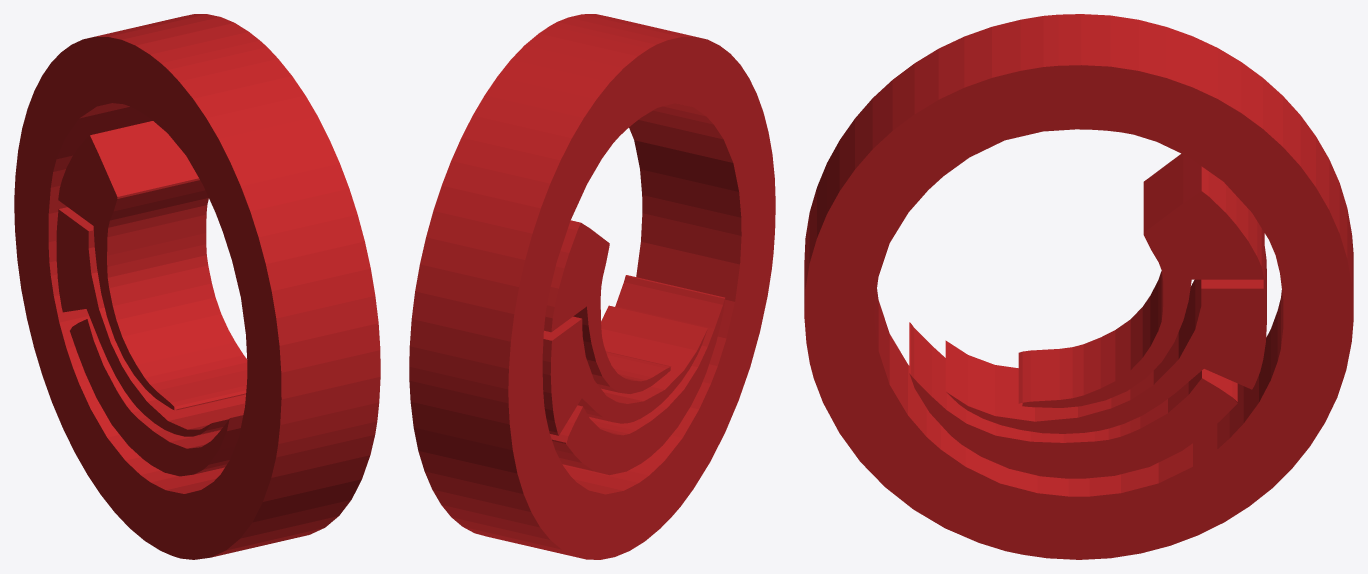
The model's file is sitecore.gltf.
3 views of the same model, side by side, from view 1: azimuth 30°, elevation 25°; view 2: azimuth 150°, elevation 25°; view 3: azimuth 270°, elevation 25° (orthographic). The views are drawn at different scales.
Parts seen in each view (by area): view 1: kisspngcomputericonssitecorelogoclipartsapicon5b558822d2e629; view 2: kisspngcomputericonssitecorelogoclipartsapicon5b558822d2e629; view 3: kisspngcomputericonssitecorelogoclipartsapicon5b558822d2e629.
Part boxes in pixels (box(x1,y1,x2,y2)): kisspngcomputericonssitecorelogoclipartsapicon5b558822d2e629: box(14, 14, 380, 559); kisspngcomputericonssitecorelogoclipartsapicon5b558822d2e629: box(409, 14, 775, 559); kisspngcomputericonssitecorelogoclipartsapicon5b558822d2e629: box(804, 14, 1353, 559).
Size of the model in its own units: 0.00137 by 0.00604 by 0.00602.
